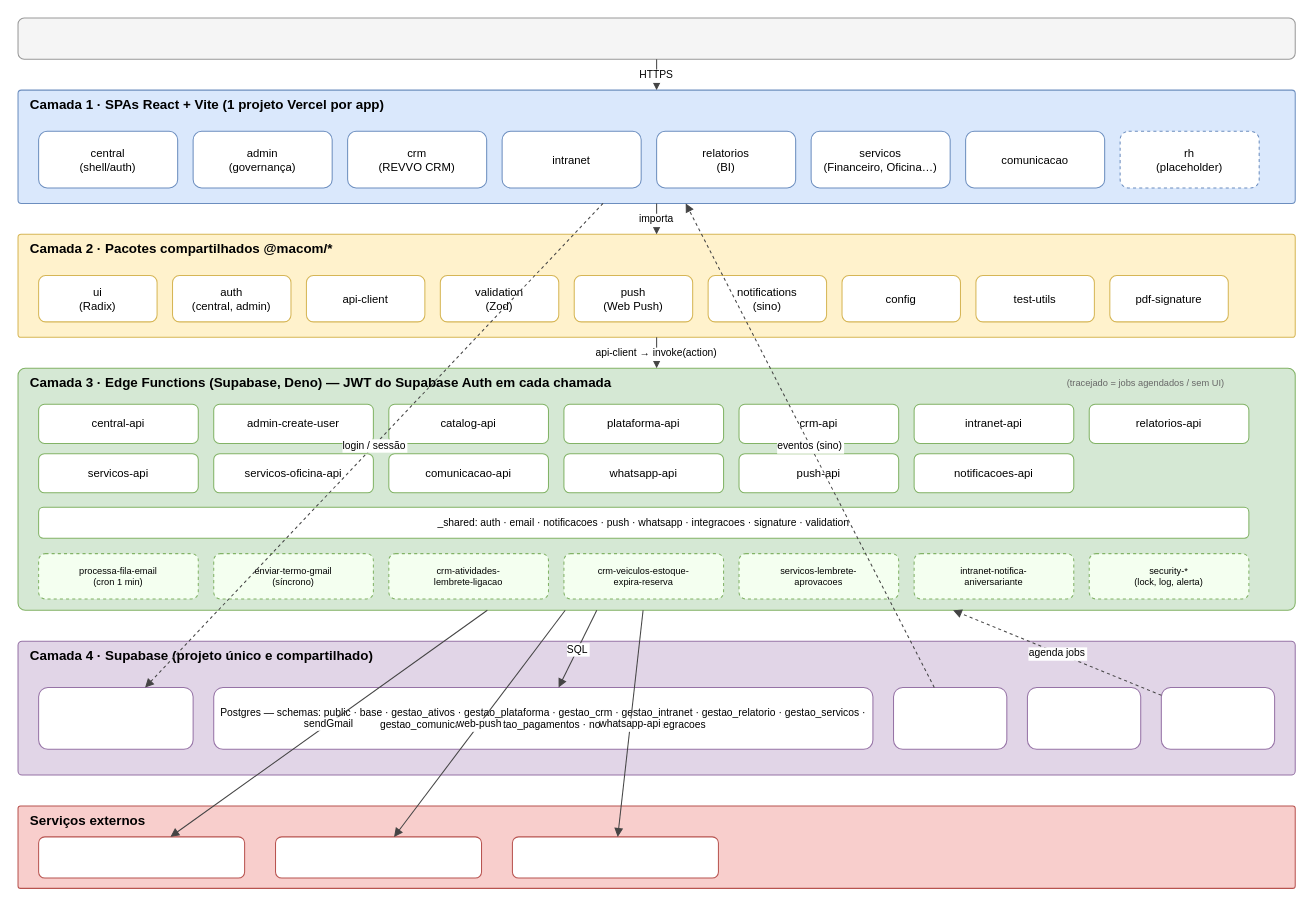
This 1313x906 diagram has some shape labels left out. Here are the shapes that lost their labels. From the top down, the centre of each, then its label:
At point 656,38: "Usuários (Colaborador · Gestor · Administrador · Financeiro)".
At point 115,717: "Auth (JWT)".
At point 949,717: "Realtime".
At point 1083,717: "Storage (PDF/anexos)".
At point 1217,717: "pg_cron".
At point 141,857: "Gmail API (e-mail)".
At point 378,857: "Web Push (VAPID) navegadores / PWA".
At point 614,857: "WhatsApp (Meta / Evolution)".
